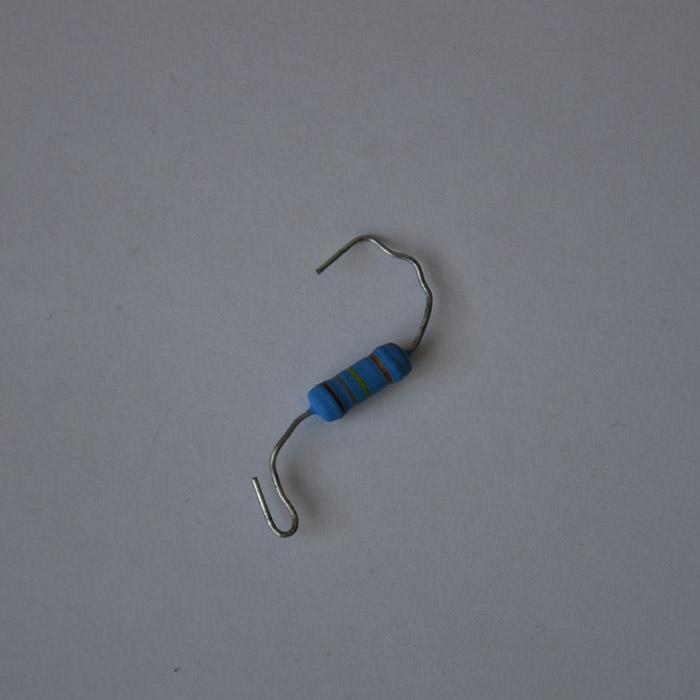resistor: (304, 340, 414, 423)
